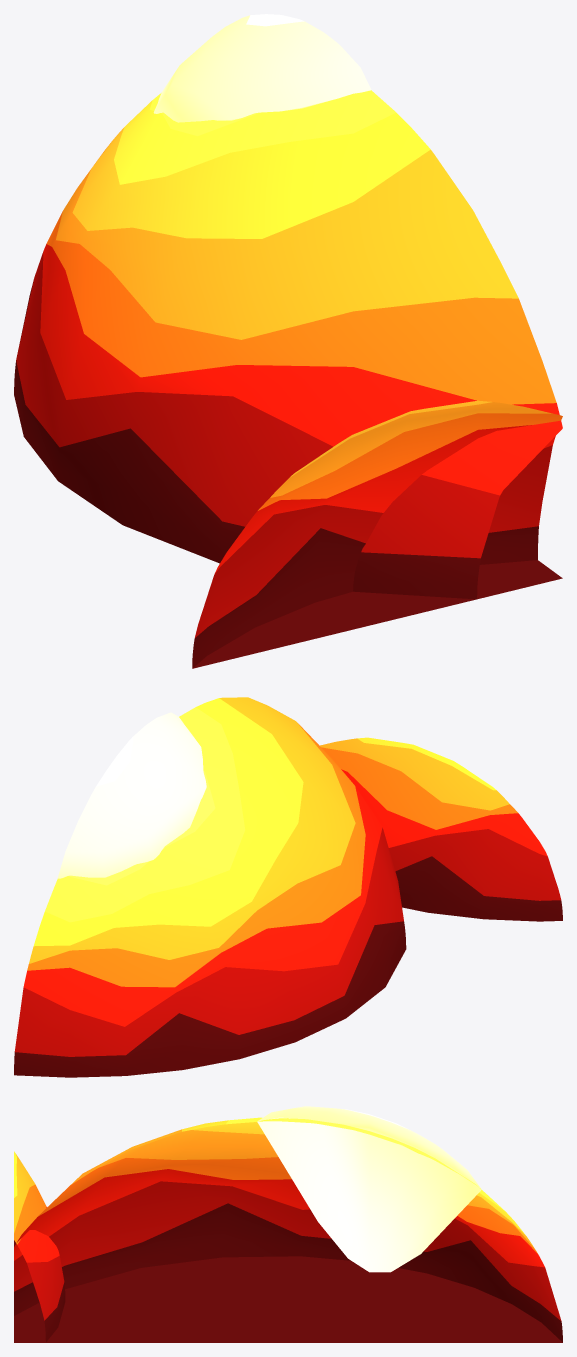
The model's file is shot_charge_b184.glb.
The picture shows the model from 3 angles, top to bottom: view 1: azimuth 30°, elevation 25°; view 2: azimuth 150°, elevation 25°; view 3: azimuth 270°, elevation 25°; orthographic projection. The views are drawn at different scales.
Parts seen in each view (by area): view 1: charge_twin1_a_fire_shot_charge_b184, charge_twin1_b_fire_shot_charge_b184, charge_twin1_a_core_shot_charge_b184; view 2: charge_twin1_a_fire_shot_charge_b184, charge_twin1_b_fire_shot_charge_b184, charge_twin1_a_core_shot_charge_b184; view 3: charge_twin1_a_fire_shot_charge_b184, charge_twin1_a_core_shot_charge_b184, charge_twin1_b_fire_shot_charge_b184.
Part boxes in pixels (left/top/right/bottom): charge_twin1_a_fire_shot_charge_b184: left=14, top=90, right=562, bottom=599; charge_twin1_b_fire_shot_charge_b184: left=192, top=400, right=562, bottom=668; charge_twin1_a_core_shot_charge_b184: left=153, top=14, right=371, bottom=122; charge_twin1_a_fire_shot_charge_b184: left=14, top=697, right=406, bottom=1077; charge_twin1_b_fire_shot_charge_b184: left=320, top=737, right=562, bottom=921; charge_twin1_a_core_shot_charge_b184: left=57, top=712, right=206, bottom=878; charge_twin1_a_fire_shot_charge_b184: left=14, top=1117, right=562, bottom=1342; charge_twin1_a_core_shot_charge_b184: left=257, top=1106, right=481, bottom=1272; charge_twin1_b_fire_shot_charge_b184: left=14, top=1151, right=65, bottom=1342.
Size of the model in its own units: 5.28 by 5.05 by 10.66.
